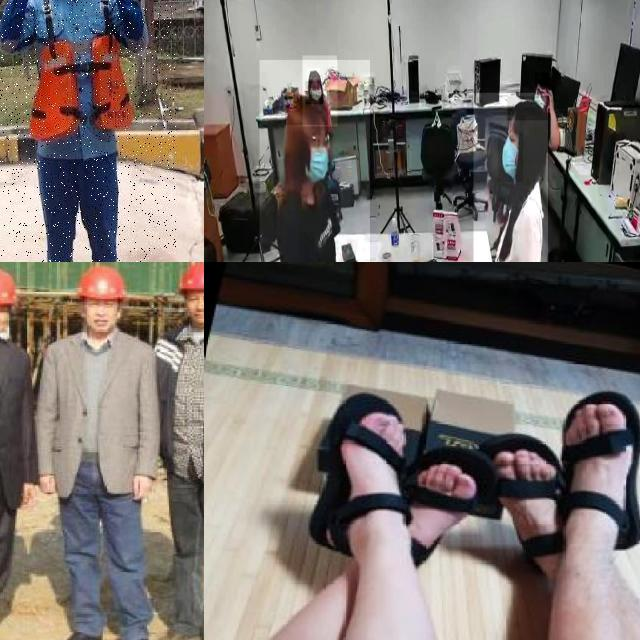Sandals: (306, 383, 422, 554), (553, 380, 640, 559)
face_mask: (301, 146, 335, 187), (498, 132, 523, 182), (306, 82, 324, 105)
hand_noglove: (127, 470, 158, 505), (18, 478, 41, 505), (37, 471, 57, 498), (546, 86, 556, 112)
head_helmet: (74, 262, 128, 306), (0, 264, 21, 308), (176, 262, 204, 294)
head_nohelmet: (285, 94, 329, 126), (508, 96, 548, 122), (535, 72, 551, 86), (308, 68, 320, 80)
person: (28, 262, 161, 640), (0, 0, 176, 262), (144, 262, 204, 640), (259, 59, 370, 262), (0, 263, 37, 640), (473, 92, 548, 262), (302, 56, 338, 126)
shoes: (146, 619, 202, 640), (56, 619, 111, 640), (120, 623, 158, 640)
vest: (30, 0, 131, 152)
